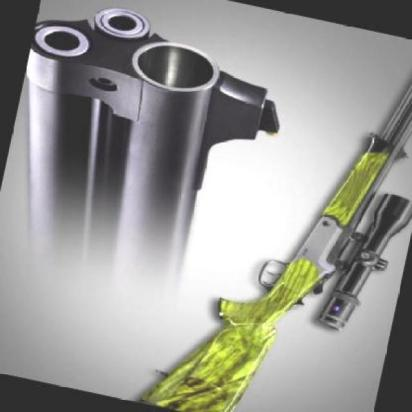Gun: (116, 0, 412, 412)
